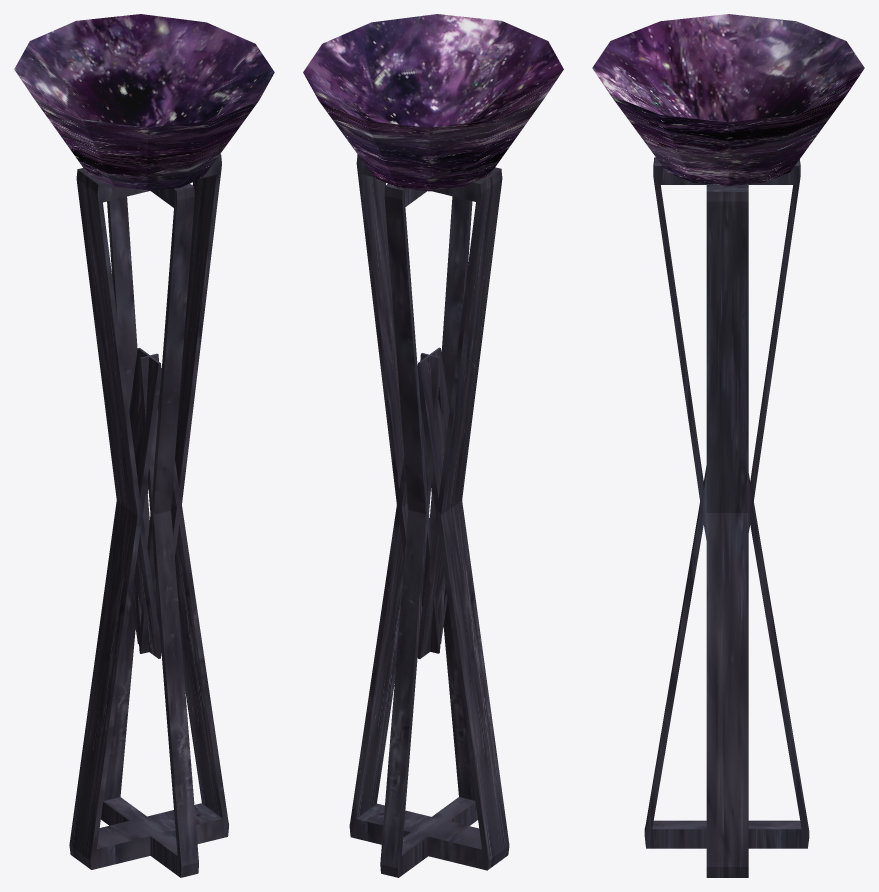
File: AltarCandlet.fbx
The picture shows the model from 3 angles, left to right: view 1: azimuth 30°, elevation 25°; view 2: azimuth 150°, elevation 25°; view 3: azimuth 270°, elevation 25°; orthographic projection.
Visible parts, largest first — view 1: Mesh1; view 2: Mesh1; view 3: Mesh1.
Part boxes in pixels (left/top/right/bottom): Mesh1: left=14, top=14, right=274, bottom=877; Mesh1: left=303, top=14, right=563, bottom=877; Mesh1: left=592, top=14, right=864, bottom=877.
Bounding box in the file's own units: 1.02 × 3.4 × 1.08.
